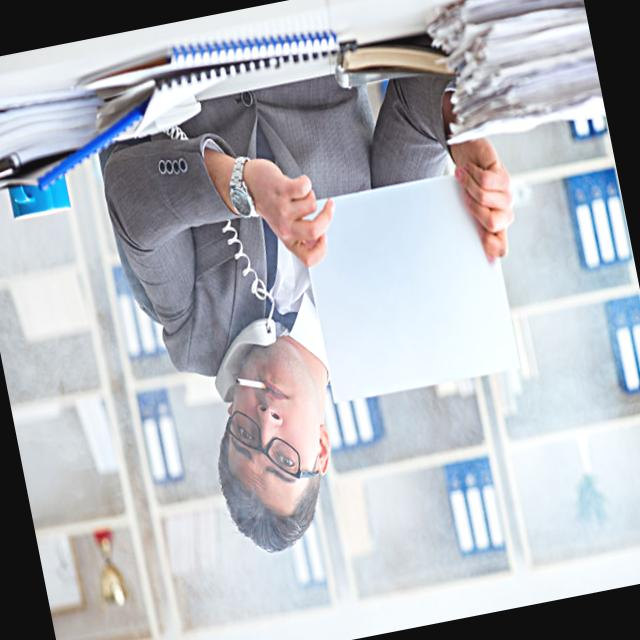cigarette: (232, 368, 268, 398)
